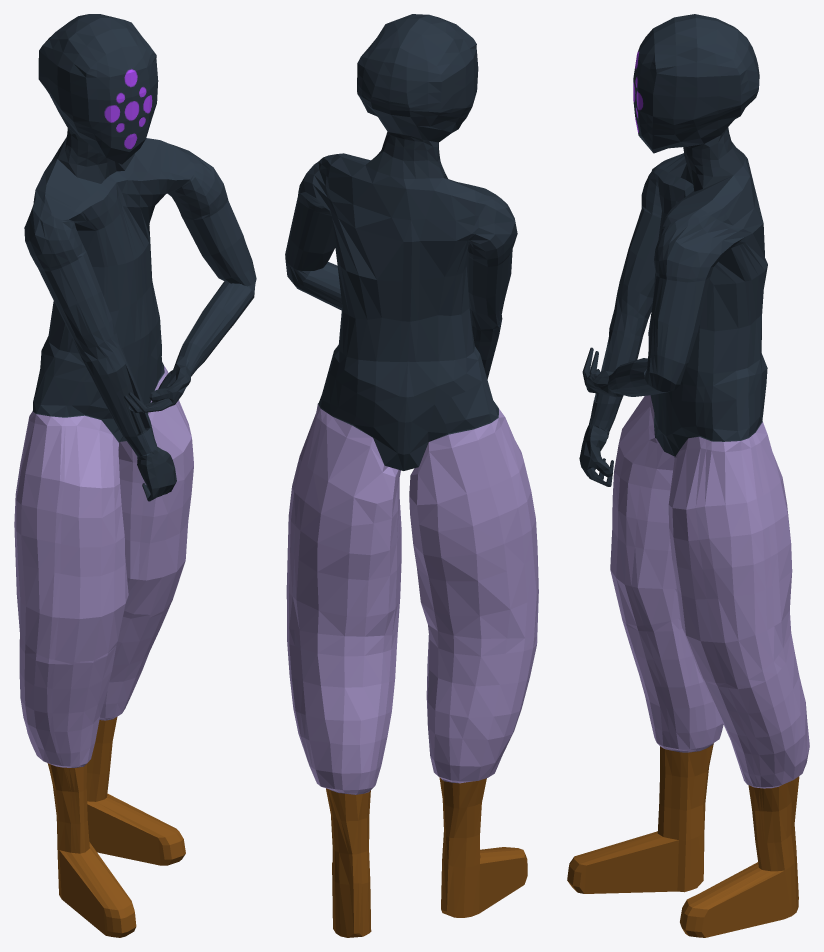
Rendered from Oracle_Reload_000011.obj.
3 renders of one model, left to right at view 1: azimuth 30°, elevation 25°; view 2: azimuth 150°, elevation 25°; view 3: azimuth 270°, elevation 25°, orthographic. The views are drawn at different scales.
Visible parts, largest first — view 1: Cube; view 2: Cube; view 3: Cube.
Boxes of the visible parts, bbox=[...] form: Cube: bbox=[14, 14, 256, 937]; Cube: bbox=[285, 14, 538, 937]; Cube: bbox=[567, 14, 809, 937].
Bounding box in the file's own units: 1.11 × 3.94 × 0.9762.
